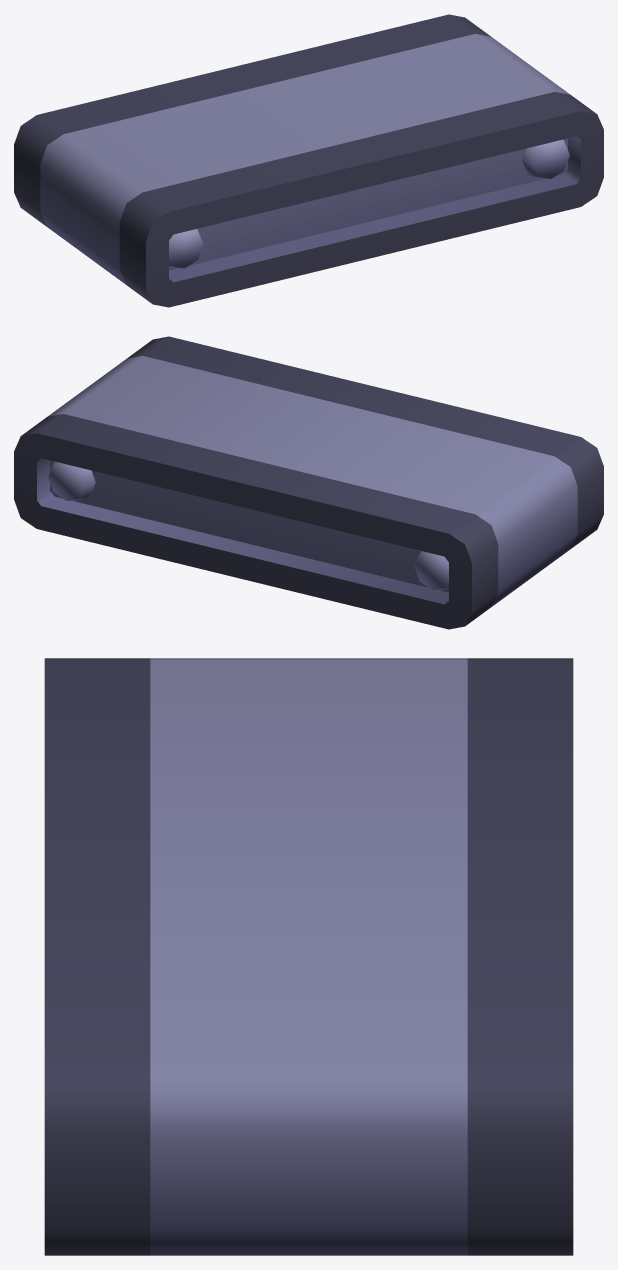
File: conveyor-long-stripe.fbx
3 renders of one model, top to bottom at view 1: azimuth 30°, elevation 25°; view 2: azimuth 150°, elevation 25°; view 3: azimuth 270°, elevation 25°, orthographic. The views are drawn at different scales.
Parts seen in each view (by area): view 1: conveyor-long-stripe; view 2: conveyor-long-stripe; view 3: conveyor-long-stripe.
Part boxes in pixels (<box>): conveyor-long-stripe: <box>14,14,603,307</box>; conveyor-long-stripe: <box>14,336,603,629</box>; conveyor-long-stripe: <box>44,658,573,1255</box>.
Size of the model in its own units: 200 by 40 by 100.
1 material, 1 textured.
